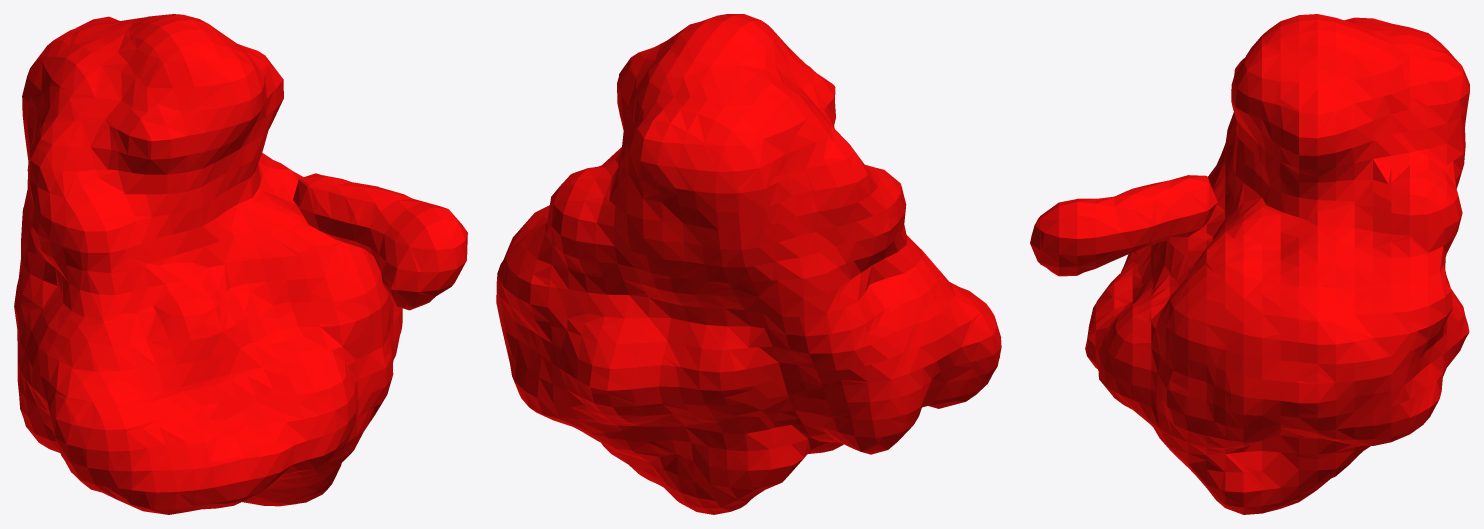
The model's file is aspC_coarse.dae.
The picture shows the model from 3 angles, left to right: view 1: azimuth 30°, elevation 25°; view 2: azimuth 150°, elevation 25°; view 3: azimuth 270°, elevation 25°; orthographic projection. The views are drawn at different scales.
Parts seen in each view (by area): view 1: aspC; view 2: aspC; view 3: aspC.
Part boxes in pixels (left/top/right/bottom): aspC: left=14, top=14, right=467, bottom=514; aspC: left=496, top=14, right=1001, bottom=514; aspC: left=1030, top=14, right=1469, bottom=514.
Bounding box in the file's own units: 58.17 × 68 × 59.38.
